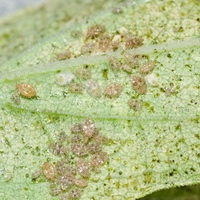insect: (0, 0, 199, 199)
